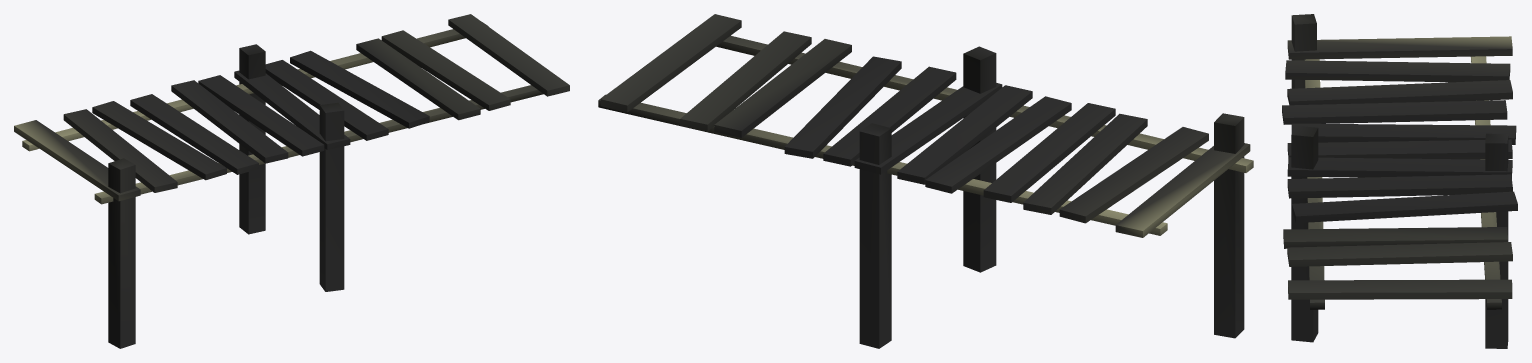
Rendered from pier.obj.
The picture shows the model from 3 angles, left to right: view 1: azimuth 30°, elevation 25°; view 2: azimuth 150°, elevation 25°; view 3: azimuth 270°, elevation 25°; orthographic projection. The views are drawn at different scales.
Parts seen in each view (by area): view 1: pier; view 2: pier; view 3: pier.
Part boxes in pixels (x1,y1,x2,y2): pier: (14,14,569,348); pier: (598,14,1253,348); pier: (1282,14,1517,348).
Bounding box in the file's own units: 8.28 × 3.12 × 3.16.
